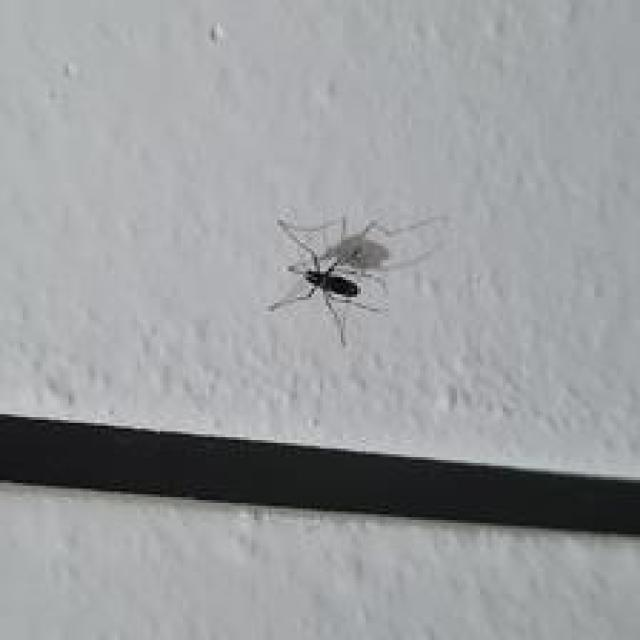Aedes albopictus: (266, 207, 448, 347)
